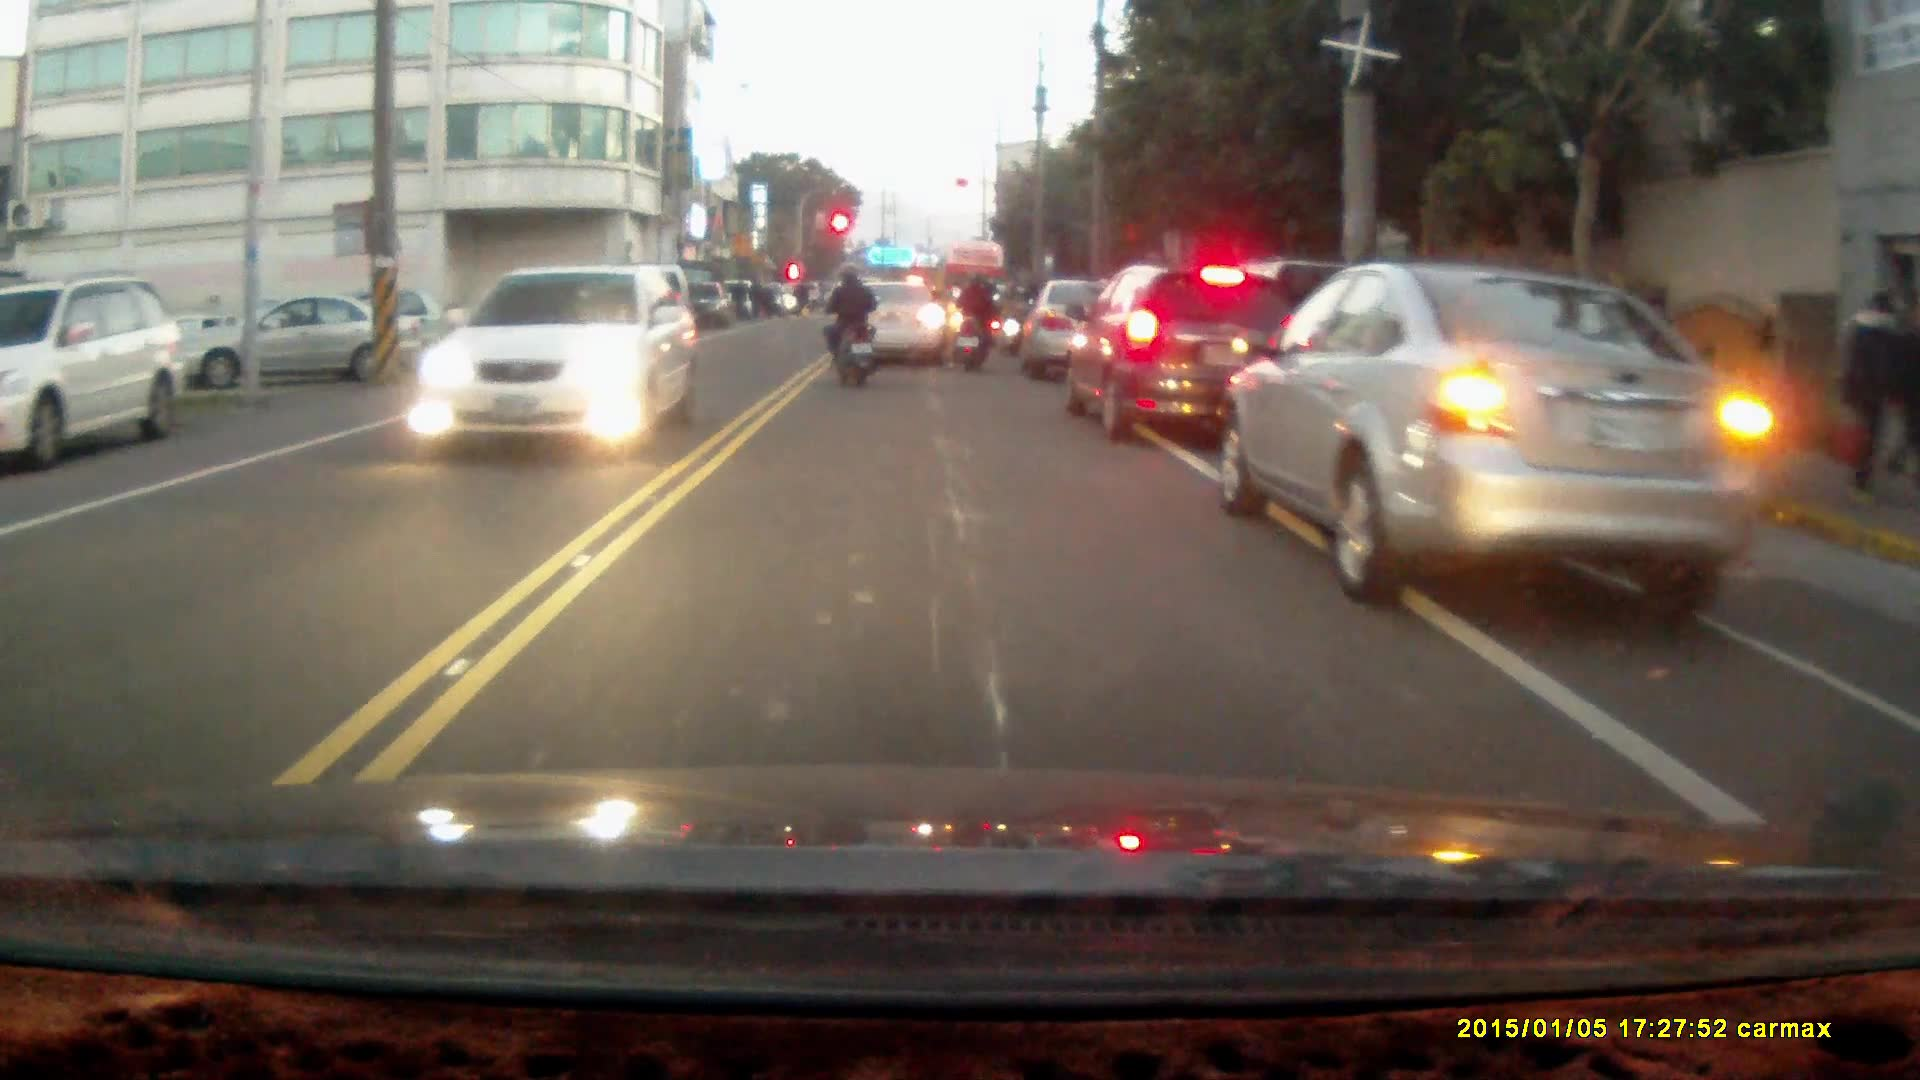pedestrian: (1838, 286, 1899, 511), (1880, 294, 1920, 482)
rider: (822, 266, 879, 389), (950, 271, 1002, 373)
vehicle: (1217, 261, 1773, 613), (410, 266, 693, 458), (1064, 269, 1309, 451), (1, 275, 192, 466), (184, 296, 427, 391), (1018, 277, 1145, 391), (836, 286, 953, 374)
